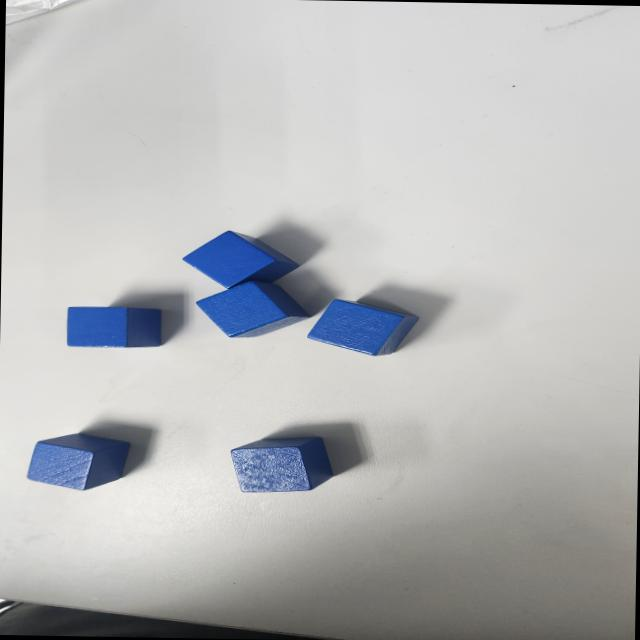blue: (194, 278, 312, 339), (182, 230, 300, 290), (23, 430, 132, 492), (306, 296, 418, 356), (228, 434, 335, 494), (65, 305, 165, 348)
